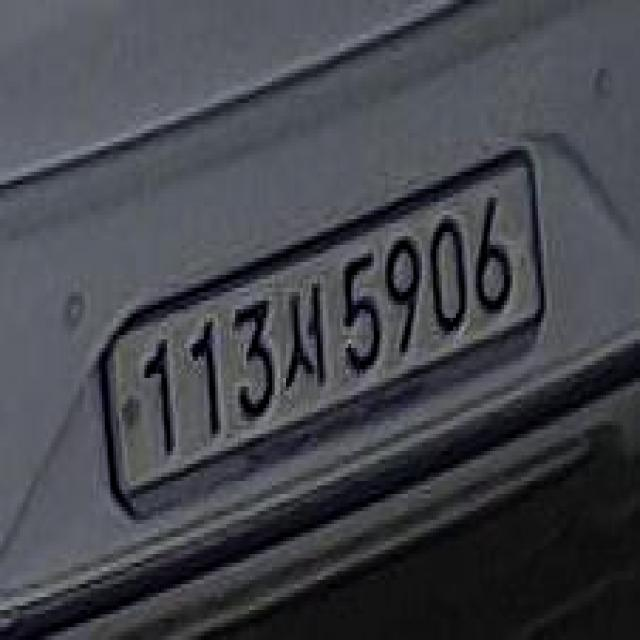illegal_plate: (98, 156, 548, 518)
